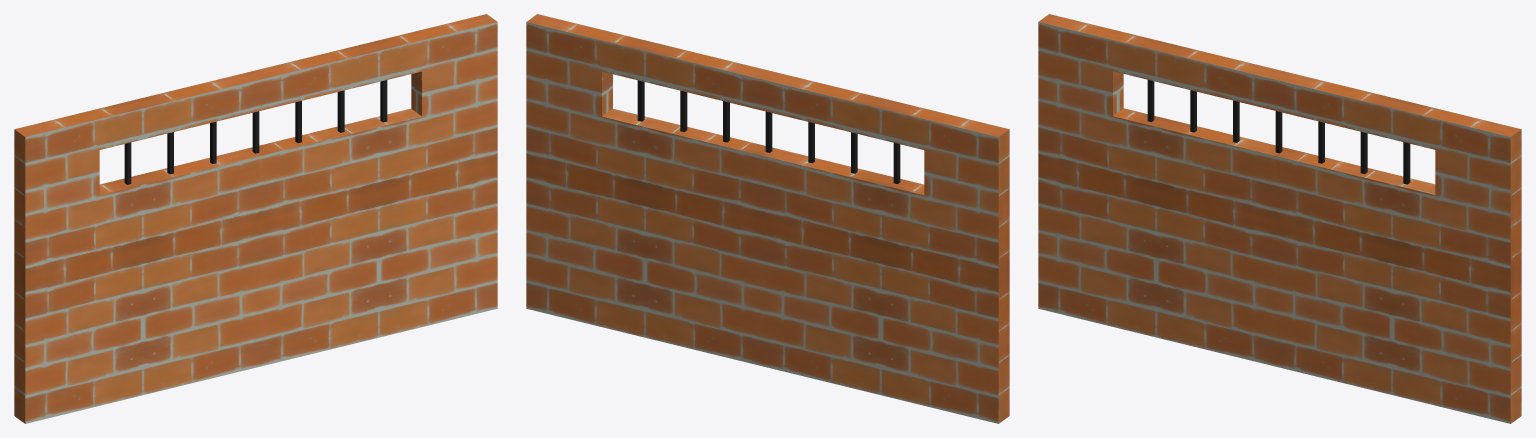
The model's file is Brick_Wall_02.fbx.
3 renders of one model, left to right at view 1: azimuth 30°, elevation 25°; view 2: azimuth 150°, elevation 25°; view 3: azimuth 330°, elevation 25°, orthographic.
Parts seen in each view (by area): view 1: Brick_Wall_02; view 2: Brick_Wall_02; view 3: Brick_Wall_02.
Boxes of the visible parts, x1,y1,x2,y2 form: Brick_Wall_02: (14, 14, 497, 423); Brick_Wall_02: (526, 14, 1009, 423); Brick_Wall_02: (1038, 14, 1521, 423).
Size of the model in its own units: 500 by 290 by 20.
